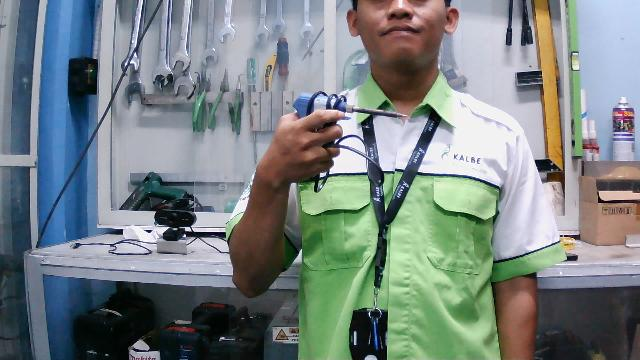solder_electrical: (292, 83, 409, 193)
